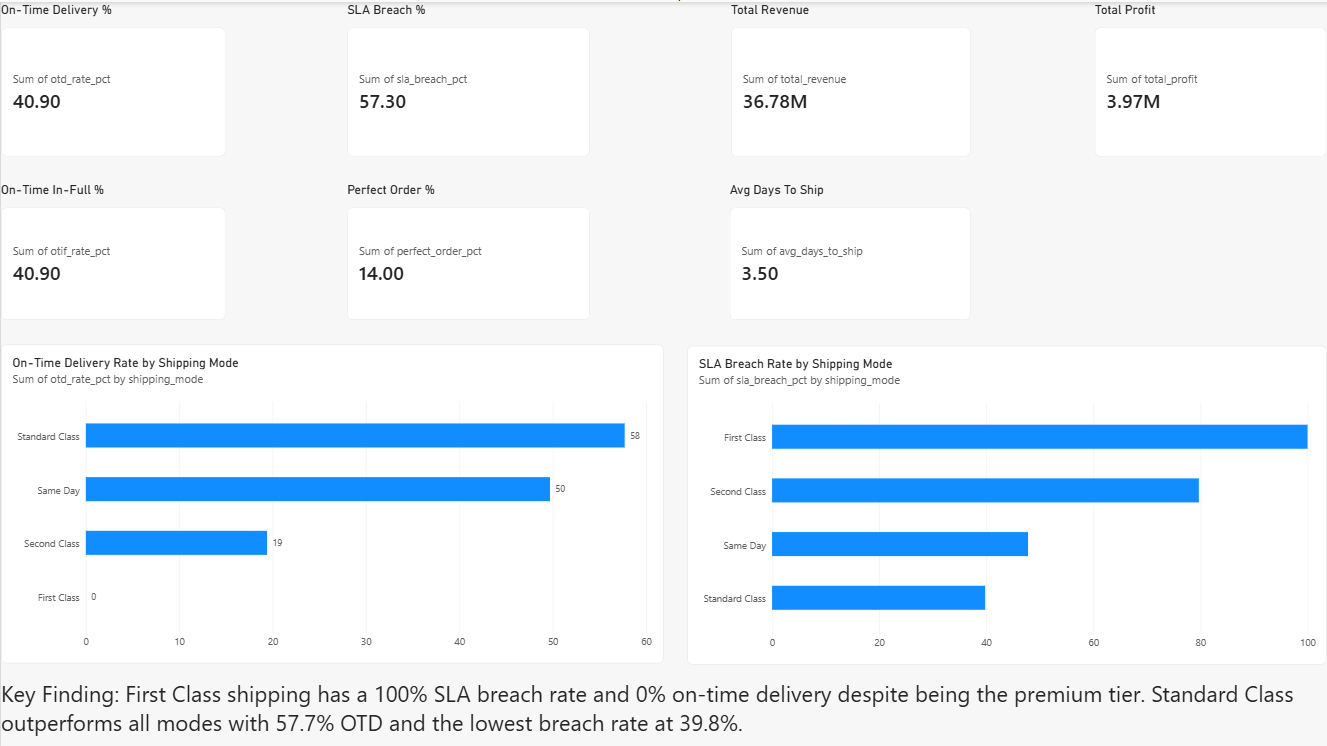

The dashboard page shown, as its layout file describes it:
{"tool":"powerbi","page":{"name":"Executive Summary","canvas":[1920,1080],"ordinal":0},"visuals":[{"type":"cardVisual","title":"On-Time Delivery %","fields":{"Data":["Sum(supplychaindb vw_kpi_summary.otd_rate_pct)"]},"box":[0,0,325.7,223.8],"z":0},{"type":"cardVisual","title":"On-Time In-Full %","fields":{"Data":["Sum(supplychaindb vw_kpi_summary.otif_rate_pct)"]},"box":[0,259.8,325.7,199.8],"z":1000},{"type":"cardVisual","title":"SLA Breach %","fields":{"Data":["Sum(supplychaindb vw_kpi_summary.sla_breach_pct)"]},"box":[501.2,0,351.7,223.8],"z":2000},{"type":"cardVisual","title":"Perfect Order %","fields":{"Data":["Sum(supplychaindb vw_kpi_summary.perfect_order_pct)"]},"box":[501.2,259.8,351.7,199.8],"z":3000},{"type":"cardVisual","title":"Avg Days To Ship","fields":{"Data":["Sum(supplychaindb vw_kpi_summary.avg_days_to_ship)"]},"box":[1055.5,259.8,349.7,199.8],"z":4000},{"type":"cardVisual","title":"Total Revenue","fields":{"Data":["Sum(supplychaindb vw_kpi_summary.total_revenue)"]},"box":[1057.5,0,347.7,223.8],"z":5000},{"type":"cardVisual","title":"Total Profit","fields":{"Data":["Sum(supplychaindb vw_kpi_summary.total_profit)"]},"box":[1582.7,0,337.7,223.8],"z":6000},{"type":"clusteredBarChart","title":"On-Time Delivery Rate by Shipping Mode","fields":{"Category":["supplychaindb vw_kpi_by_shippingmode.shipping_mode"],"Y":["Sum(supplychaindb vw_kpi_by_shippingmode.otd_rate_pct)"]},"box":[0,495.6,959.2,461.6],"z":7000},{"type":"clusteredBarChart","title":"SLA Breach Rate by Shipping Mode","fields":{"Category":["supplychaindb vw_kpi_by_shippingmode.shipping_mode"],"Y":["Sum(supplychaindb vw_kpi_by_shippingmode.sla_breach_pct)"]},"box":[993.2,497.6,927.2,461.6],"z":8000},{"type":"textbox","box":[0,979.2,1920.4,99.9],"z":9000}]}

Visuals, with their boxes in screenshot pixels (x1, y1, x2, y2), scaled from the page's 1920x1080 canvas onto the 1327x746 screenshot:
"On-Time Delivery %" cardVisual: <bbox>0, 0, 225, 155</bbox>
"On-Time In-Full %" cardVisual: <bbox>0, 179, 225, 317</bbox>
"SLA Breach %" cardVisual: <bbox>346, 0, 589, 155</bbox>
"Perfect Order %" cardVisual: <bbox>346, 179, 589, 317</bbox>
"Avg Days To Ship" cardVisual: <bbox>730, 179, 971, 317</bbox>
"Total Revenue" cardVisual: <bbox>731, 0, 971, 155</bbox>
"Total Profit" cardVisual: <bbox>1094, 0, 1326, 155</bbox>
"On-Time Delivery Rate by Shipping Mode" clusteredBarChart: <bbox>0, 342, 663, 661</bbox>
"SLA Breach Rate by Shipping Mode" clusteredBarChart: <bbox>686, 344, 1326, 663</bbox>
textbox: <bbox>0, 676, 1326, 745</bbox>
